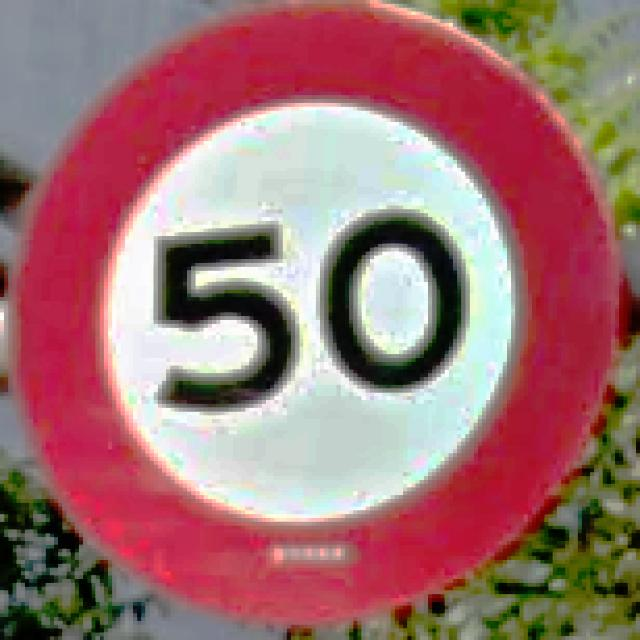max50: (4, 0, 628, 625)
